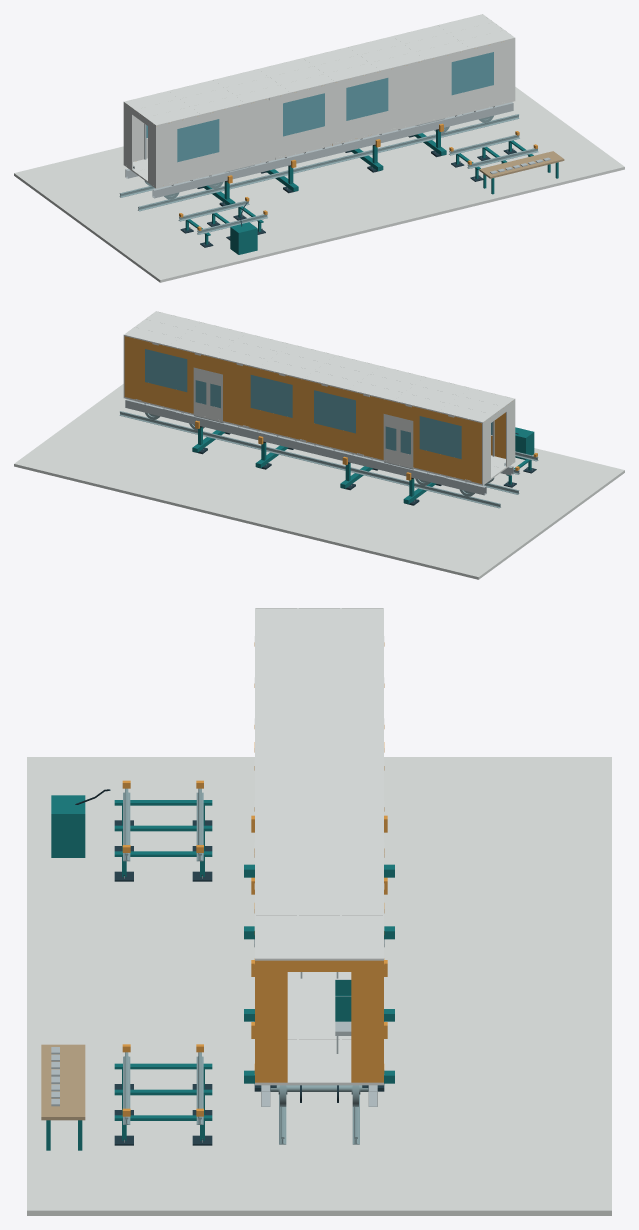
Rendered from vehicle-fabrication.glb.
3 views of the same model, one above another, from view 1: azimuth 30°, elevation 25°; view 2: azimuth 150°, elevation 25°; view 3: azimuth 270°, elevation 25° (orthographic). The views are drawn at different scales.
Visible parts, largest first — view 1: shop/floor, source/comfort-shell/retained/panel/side--1/layer-0/region-1 (×6), source/wheel-underframe/sill/-1/0, source/comfort-shell/retained/panel/side--1/layer-0/region-2 (×3), fixture/shop-rail/-1, source/comfort-shell/retained/panel/side--1/layer-0/region-3 (×3), source/comfort-shell/infill/0/outer, source/comfort-shell/fixed-window/-1/0/glass-outer, source/comfort-shell/fixed-window/-1/2/glass-outer, source/comfort-shell/fixed-window/-1/3/glass-outer, source/comfort-shell/fixed-window/-1/1/glass-outer, source/comfort-shell/infill/1/outer (+35 smaller); view 2: shop/floor, source/wheel-underframe/sill/1/1, fixture/shop-rail/1, source/comfort-shell/fixed-window/1/0/glass-inner, source/comfort-shell/fixed-window/1/2/glass-inner, source/comfort-shell/fixed-window/1/3/glass-inner, source/comfort-shell/fixed-window/1/1/glass-inner, source/comfort-shell/retained/panel/side-1/layer-3/region-22, source/comfort-shell/retained/panel/side-1/layer-3/region-4, source/comfort-shell/retained/panel/side-1/layer-3/region-34, source/comfort-shell/retained/panel/side-1/layer-3/region-16, source/comfort-shell/retained/panel/side-1/layer-3/region-13 (+37 smaller); view 3: shop/floor, source/comfort-shell/retained/panel/end-1/layer-3/region-0, source/comfort-shell/retained/panel/end-1/layer-3/region-3, bench/worktop, services/retracting-trolley, source/comfort-shell/roof/panel/0/0/skin/top, source/comfort-shell/roof/panel/0/1/skin/top, source/comfort-shell/roof/panel/0/2/skin/top, source/comfort-shell/roof/panel/1/0/skin/top, source/comfort-shell/roof/panel/1/1/skin/top, source/comfort-shell/roof/panel/1/2/skin/top, source/comfort-shell/roof/panel/4/0/skin/top (+20 smaller).
Boxes of the visible parts, left/top/right/bottom form: shop/floor: left=14, top=87, right=624, bottom=282; source/comfort-shell/retained/panel/side--1/layer-0/region-1 (×6): left=157, top=94, right=346, bottom=167; source/wheel-underframe/sill/-1/0: left=154, top=103, right=513, bottom=198; source/comfort-shell/retained/panel/side--1/layer-0/region-2 (×3): left=346, top=77, right=415, bottom=140; fixture/shop-rail/-1: left=138, top=114, right=519, bottom=211; source/comfort-shell/retained/panel/side--1/layer-0/region-3 (×3): left=451, top=53, right=514, bottom=114; source/comfort-shell/infill/0/outer: left=225, top=117, right=255, bottom=170; source/comfort-shell/fixed-window/-1/0/glass-outer: left=177, top=119, right=219, bottom=162; source/comfort-shell/fixed-window/-1/2/glass-outer: left=346, top=78, right=388, bottom=120; source/comfort-shell/fixed-window/-1/3/glass-outer: left=451, top=52, right=493, bottom=95; source/comfort-shell/fixed-window/-1/1/glass-outer: left=283, top=93, right=324, bottom=136; source/comfort-shell/infill/1/outer: left=416, top=70, right=445, bottom=123; shop/floor: left=14, top=384, right=624, bottom=579; source/wheel-underframe/sill/1/1: left=125, top=400, right=484, bottom=495; fixture/shop-rail/1: left=119, top=411, right=500, bottom=508; source/comfort-shell/fixed-window/1/0/glass-inner: left=419, top=416, right=461, bottom=459; source/comfort-shell/fixed-window/1/2/glass-inner: left=250, top=375, right=292, bottom=417; source/comfort-shell/fixed-window/1/3/glass-inner: left=145, top=349, right=187, bottom=392; source/comfort-shell/fixed-window/1/1/glass-inner: left=314, top=390, right=355, bottom=433; source/comfort-shell/retained/panel/side-1/layer-3/region-22: left=250, top=408, right=292, bottom=437; source/comfort-shell/retained/panel/side-1/layer-3/region-4: left=419, top=449, right=461, bottom=478; source/comfort-shell/retained/panel/side-1/layer-3/region-34: left=145, top=382, right=187, bottom=411; source/comfort-shell/retained/panel/side-1/layer-3/region-16: left=314, top=423, right=355, bottom=453; source/comfort-shell/retained/panel/side-1/layer-3/region-13: left=356, top=407, right=383, bottom=440; shop/floor: left=27, top=757, right=611, bottom=1215; source/comfort-shell/retained/panel/end-1/layer-3/region-0: left=255, top=972, right=287, bottom=1082; source/comfort-shell/retained/panel/end-1/layer-3/region-3: left=351, top=972, right=383, bottom=1082; bench/worktop: left=41, top=1044, right=85, bottom=1120; services/retracting-trolley: left=51, top=795, right=85, bottom=857; source/comfort-shell/roof/panel/0/0/skin/top: left=256, top=608, right=296, bottom=651; source/comfort-shell/roof/panel/0/1/skin/top: left=299, top=608, right=339, bottom=651; source/comfort-shell/roof/panel/0/2/skin/top: left=342, top=608, right=382, bottom=651; source/comfort-shell/roof/panel/1/0/skin/top: left=256, top=652, right=296, bottom=695; source/comfort-shell/roof/panel/1/1/skin/top: left=299, top=652, right=339, bottom=695; source/comfort-shell/roof/panel/1/2/skin/top: left=342, top=652, right=382, bottom=695; source/comfort-shell/roof/panel/4/0/skin/top: left=256, top=783, right=296, bottom=826.
Bounding box in the file's own units: 22 × 4.66 × 12.
